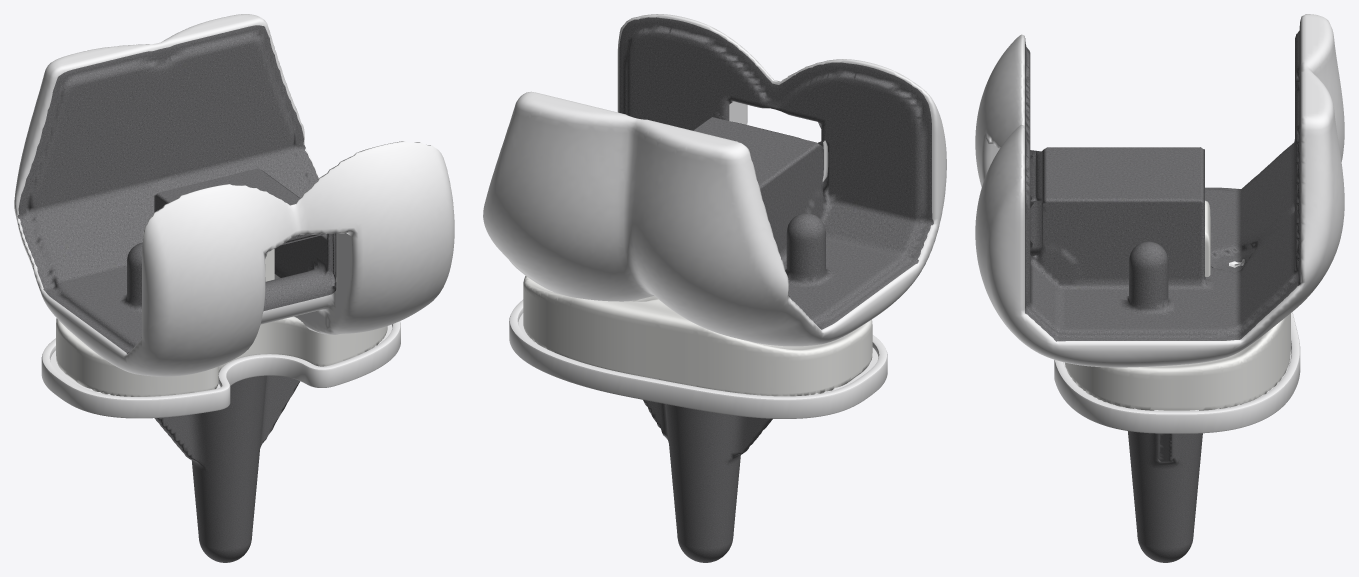
Rendered from mirai-ps.glb.
3 renders of one model, left to right at view 1: azimuth 30°, elevation 25°; view 2: azimuth 150°, elevation 25°; view 3: azimuth 270°, elevation 25°, orthographic. The views are drawn at different scales.
Visible parts, largest first — view 1: femoral.001, tray.002, insert.001; view 2: femoral.001, insert.001, tray.002; view 3: femoral.001, tray.002, insert.001.
Boxes of the visible parts, left/top/right/bottom form: femoral.001: left=14, top=14, right=454, bottom=376; tray.002: left=41, top=321, right=400, bottom=562; insert.001: left=56, top=249, right=387, bottom=396; femoral.001: left=483, top=14, right=946, bottom=346; insert.001: left=523, top=276, right=872, bottom=396; tray.002: left=509, top=299, right=887, bottom=562; femoral.001: left=975, top=14, right=1344, bottom=367; tray.002: left=1054, top=312, right=1300, bottom=562; insert.001: left=1065, top=200, right=1290, bottom=410.
Bounding box in the file's own units: 0.07 × 0.097 × 0.0657.
3 materials, 1 textured.
